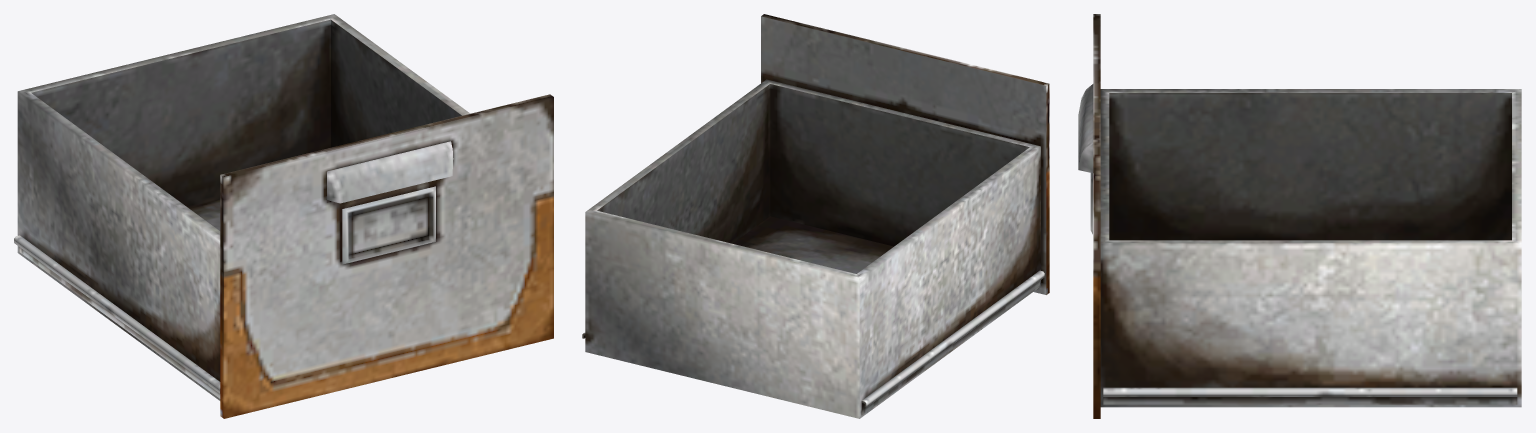
The model's file is file_cabinet_theta_small_drawer_large.DAE.
The picture shows the model from 3 angles, left to right: view 1: azimuth 30°, elevation 25°; view 2: azimuth 150°, elevation 25°; view 3: azimuth 270°, elevation 25°; orthographic projection. The views are drawn at different scales.
Visible parts, largest first — view 1: file_cabinet_theta_small_drawer_large; view 2: file_cabinet_theta_small_drawer_large; view 3: file_cabinet_theta_small_drawer_large.
Part boxes in pixels (bbox=[...]): file_cabinet_theta_small_drawer_large: bbox=[14, 14, 553, 418]; file_cabinet_theta_small_drawer_large: bbox=[582, 14, 1049, 418]; file_cabinet_theta_small_drawer_large: bbox=[1078, 14, 1521, 418].
Bounding box in the file's own units: 0.6291 × 0.4404 × 0.7279.
